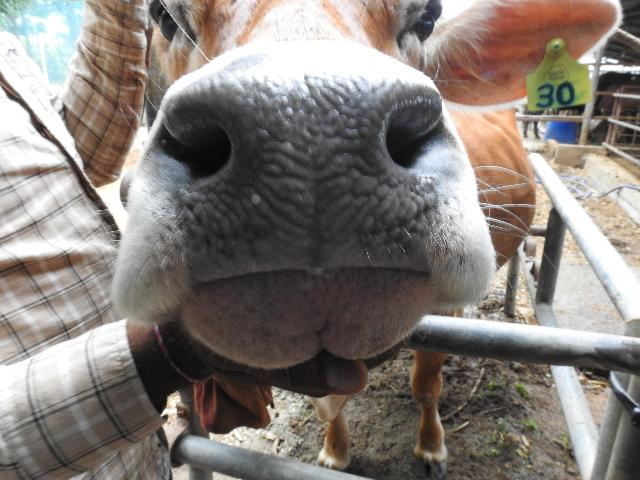Muzzle: (238, 79, 380, 253)
